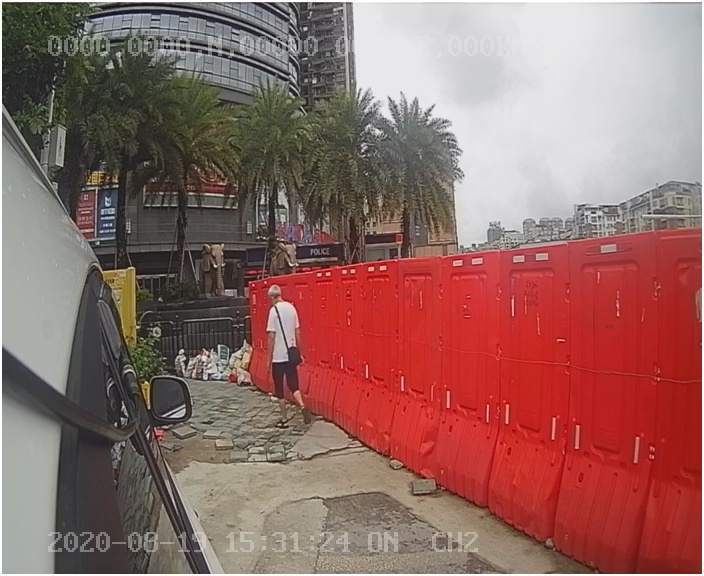person: (258, 284, 322, 430)
